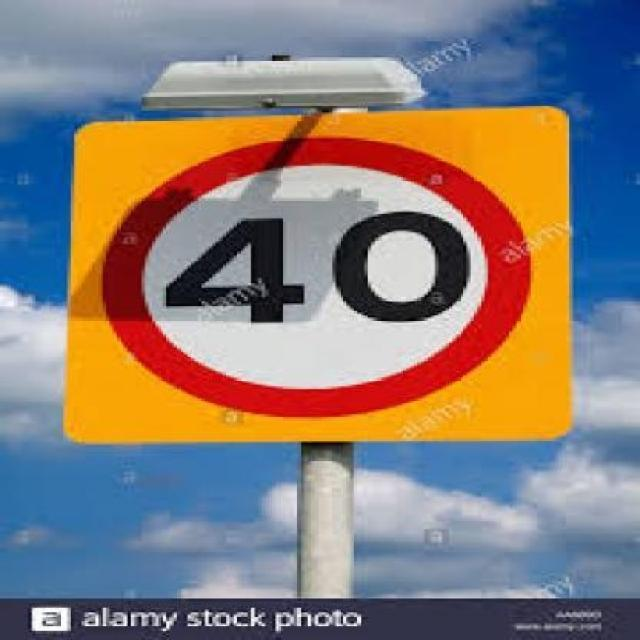forb_speed_over_40: (103, 138, 531, 411)
